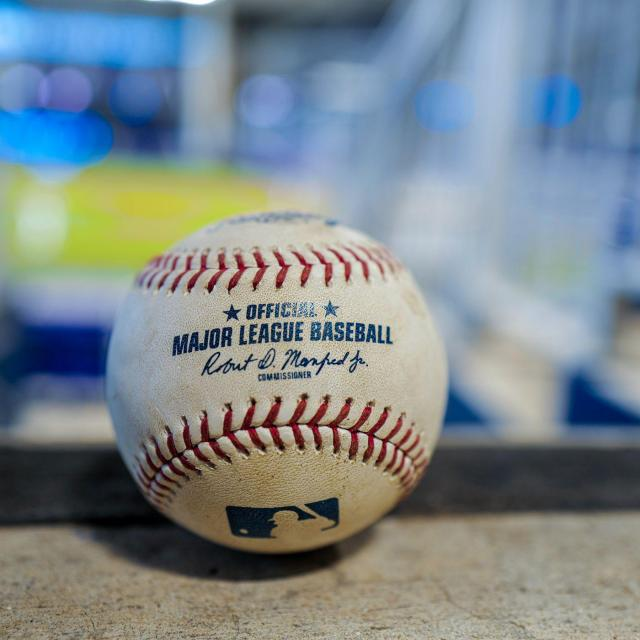baseball: (107, 206, 450, 549)
